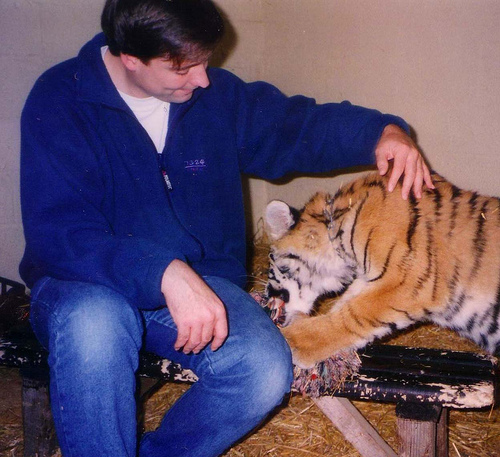Tigre: (268, 177, 500, 355)
